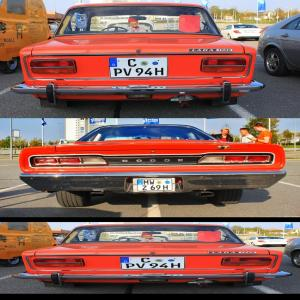Vehicle-registration-plate: (110, 59, 169, 79), (123, 259, 187, 271), (130, 179, 183, 193)
